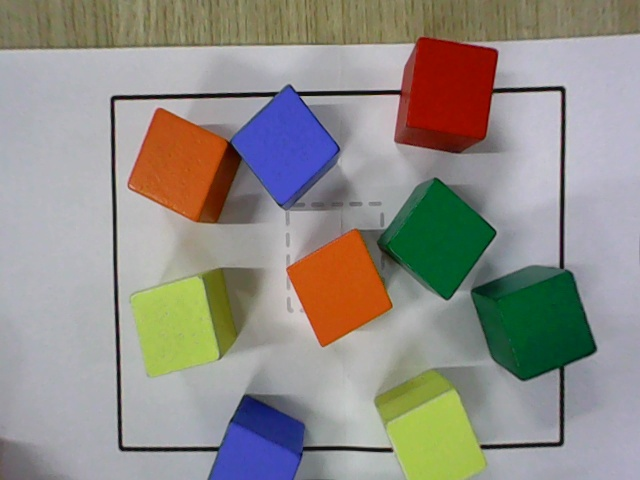upside of small cube: (228, 83, 340, 208), (387, 178, 499, 300), (285, 229, 393, 348), (125, 106, 228, 223), (495, 270, 599, 383), (128, 275, 222, 378), (383, 389, 489, 479), (406, 38, 498, 138), (210, 422, 302, 479)
